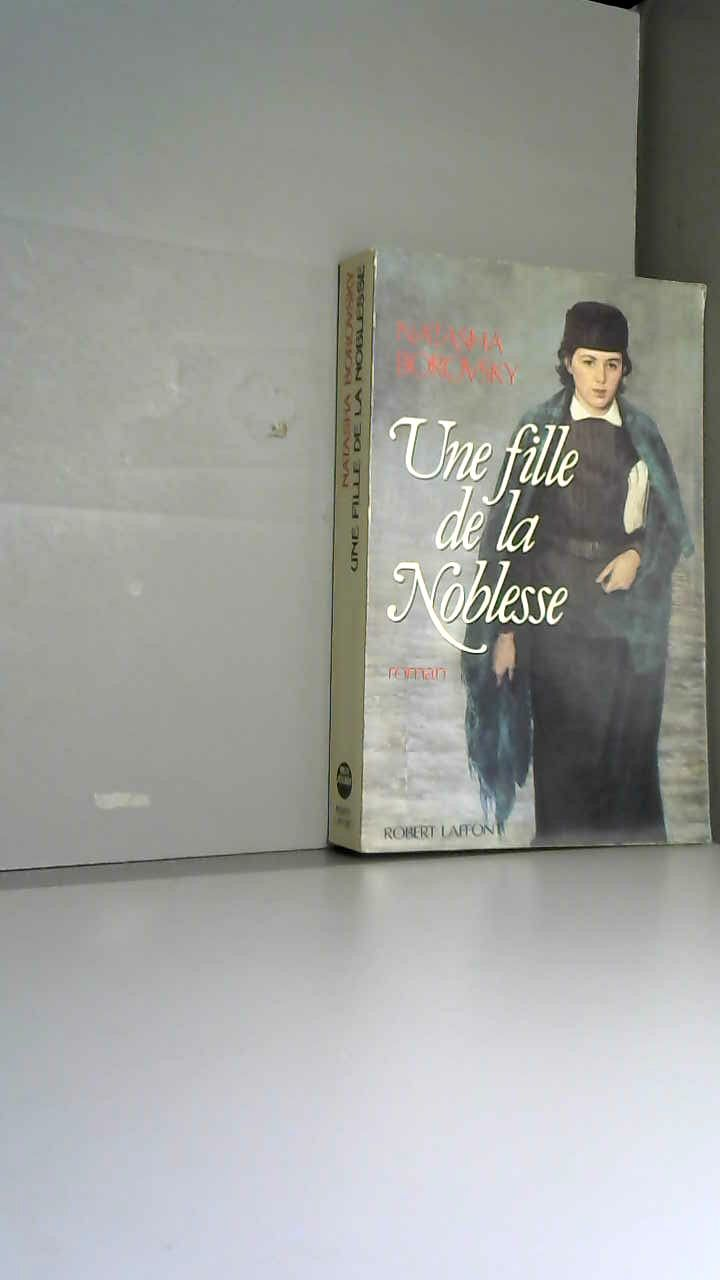book: (300, 230, 720, 894)
